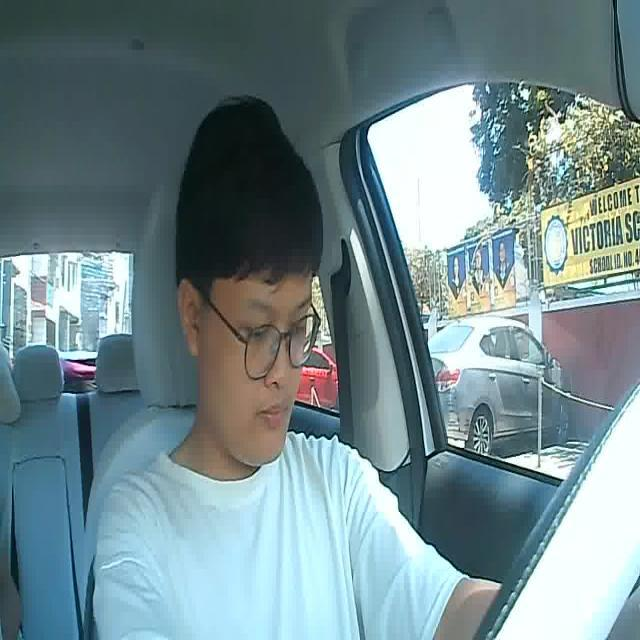Eye-Open: (245, 322, 270, 340), (286, 318, 311, 336)
Inattentive: (173, 94, 325, 467)
Normal: (257, 402, 291, 424)
